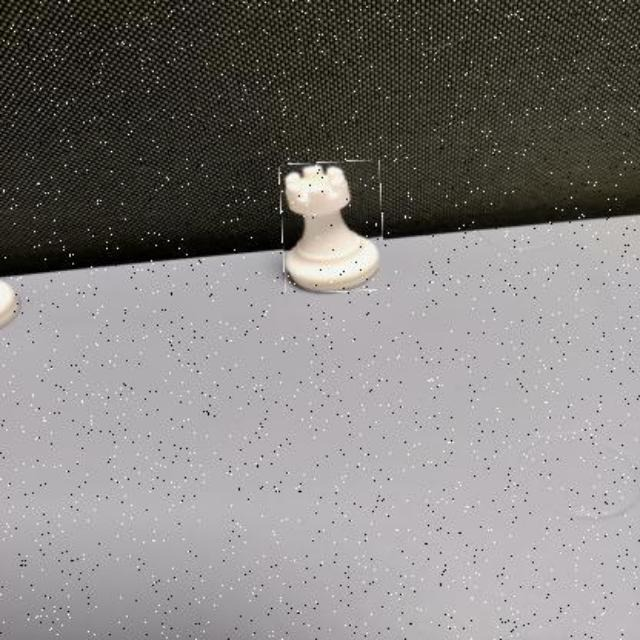white-rook: (281, 162, 383, 294)
